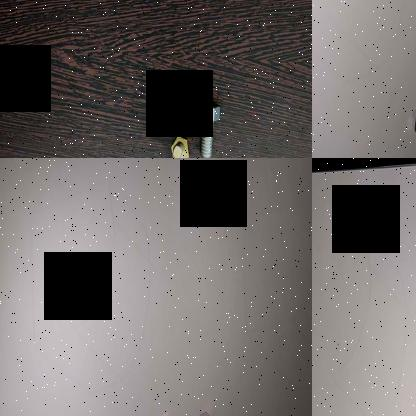Bolts: (191, 90, 222, 158), (168, 129, 190, 158)
NUTS: (410, 107, 416, 140)
